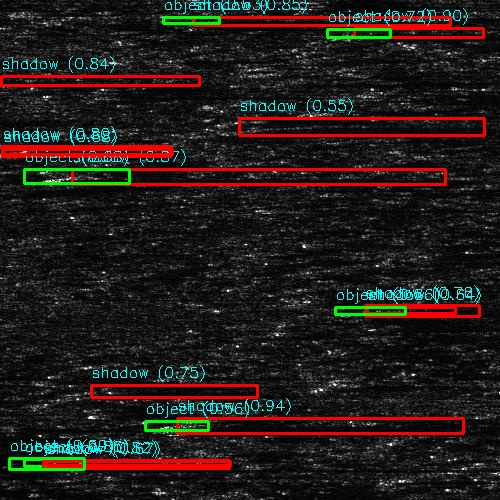rock: (217, 75, 342, 84), (21, 174, 104, 185), (330, 27, 403, 38), (217, 123, 300, 132), (145, 420, 208, 429), (21, 458, 84, 465), (0, 480, 23, 497), (156, 17, 209, 24), (0, 424, 51, 431), (473, 466, 500, 477), (482, 380, 500, 395), (291, 1, 344, 6), (237, 205, 290, 210)
shadow: (63, 174, 430, 185), (177, 420, 500, 429), (0, 480, 160, 497), (259, 123, 494, 132), (367, 27, 500, 38), (280, 75, 436, 84), (53, 458, 246, 465), (183, 17, 336, 24), (20, 424, 149, 431), (318, 1, 474, 6), (264, 205, 415, 210), (0, 59, 58, 62)
